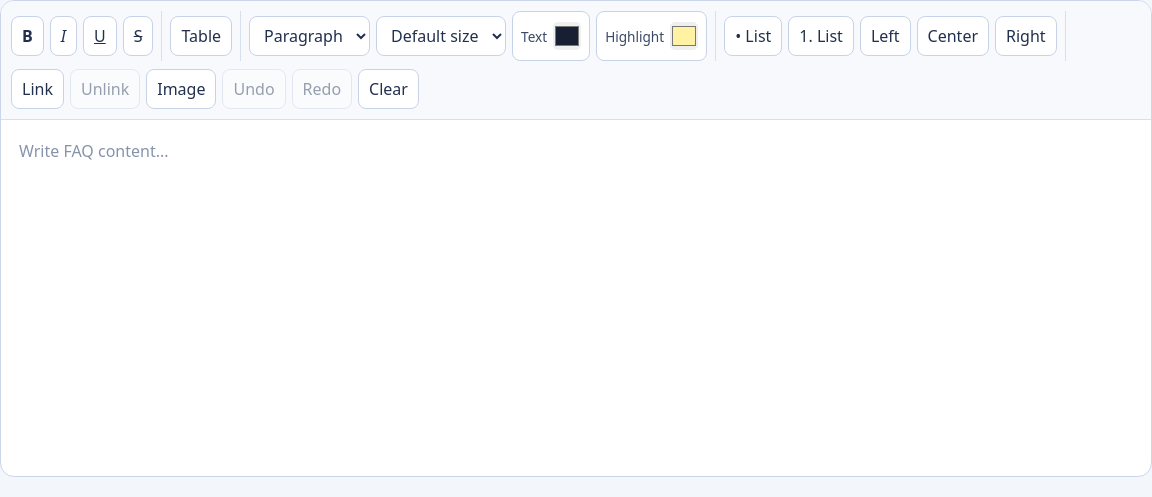
RichTextEditor › enables table commands according to the current selection
Click the button "Table" at point(201, 36), box [170,16,232,56]
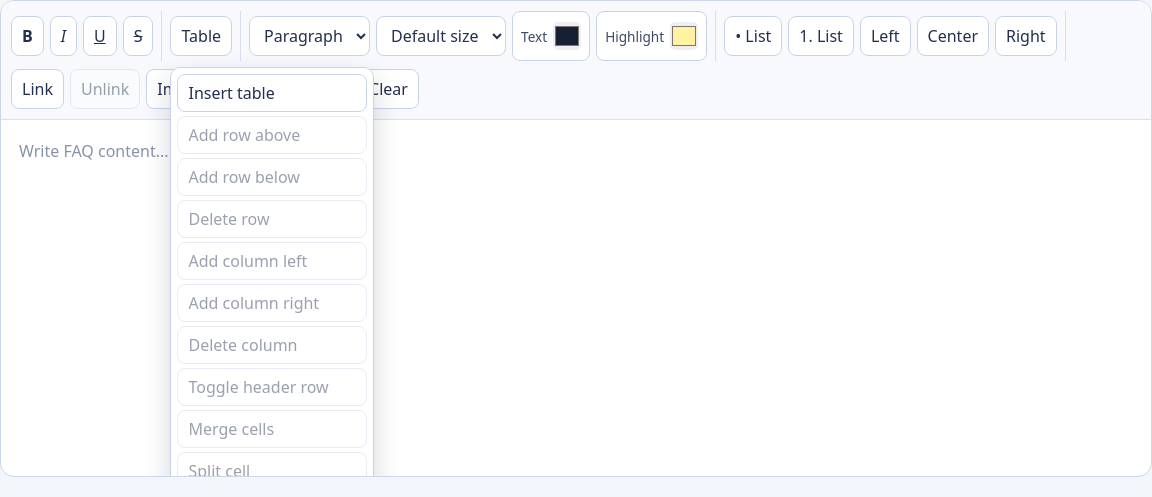
Now the menu item "Insert table" is enabled
Now the menu item "Add row above" is disabled, box [178,116,368,154]
Now the menu item "Add row below" is disabled, box [178,158,368,196]
Click the menu item "Insert table" at point(272, 93), box [178,74,368,112]
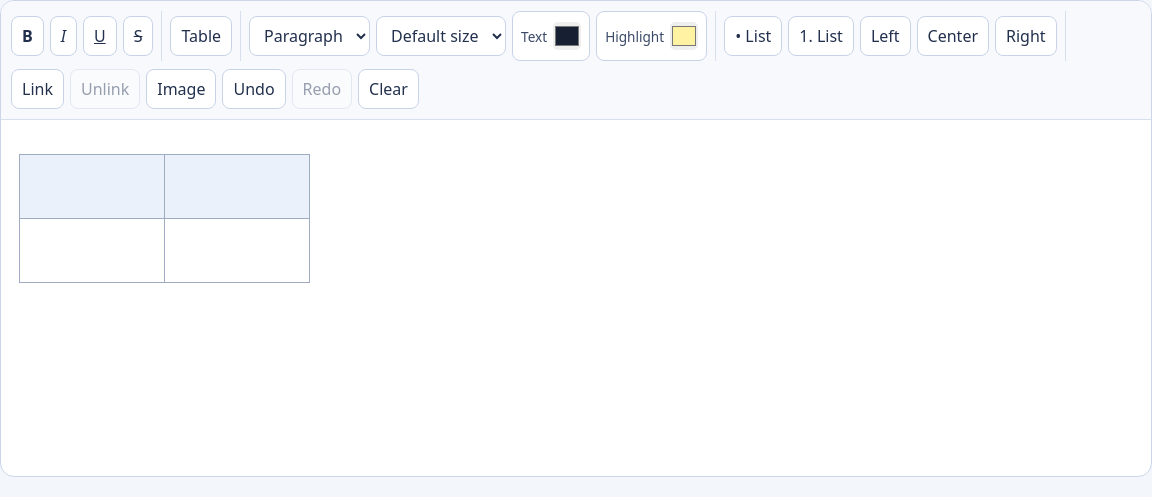
Click the button "Table" at point(201, 36), box [170,16,232,56]
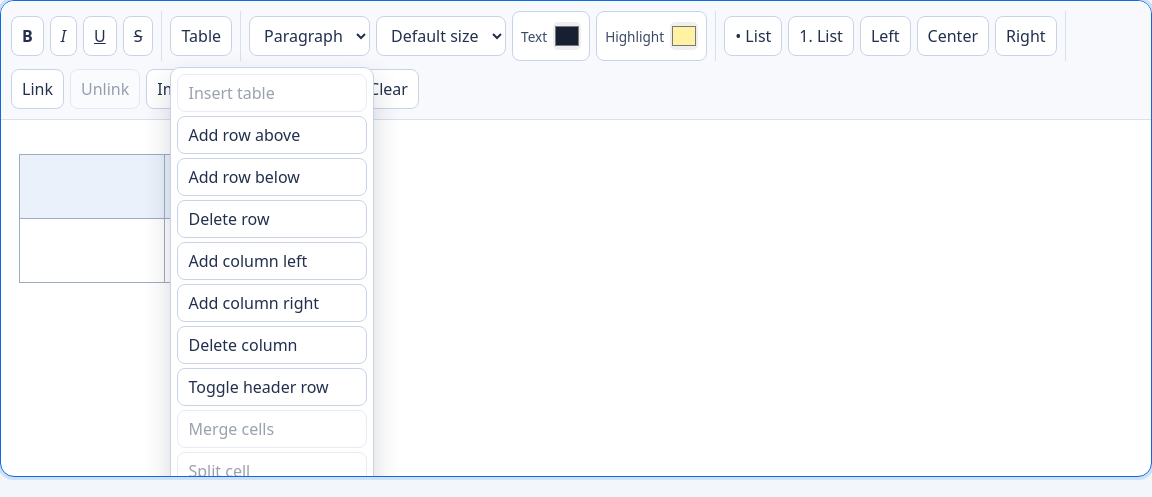
Now the menu item "Insert table" is disabled, box [178,74,368,112]
Now the menu item "Add row below" is enabled, box [178,158,368,196]
Now the menu item "Add column right" is enabled, box [178,284,368,322]
